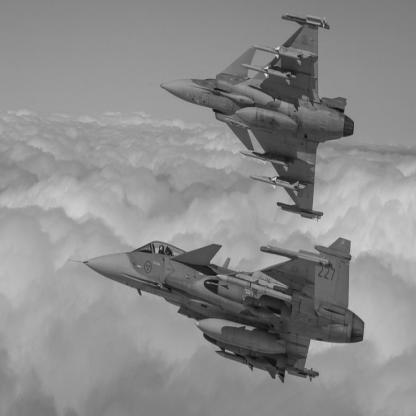JAS39: (69, 237, 366, 384), (151, 15, 355, 224)
